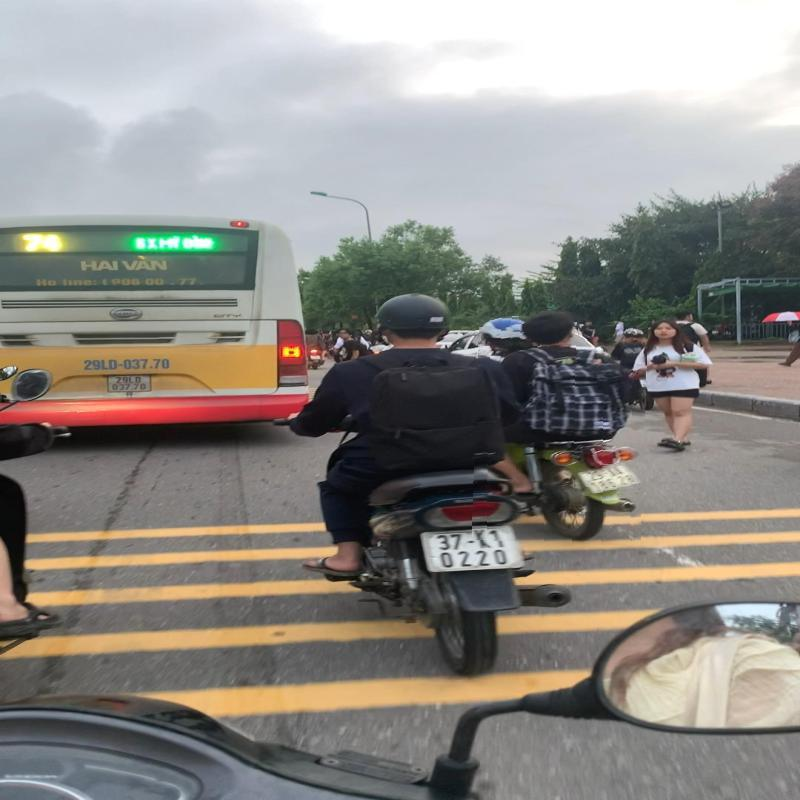helmet: (481, 315, 530, 349)
licenseplate: (574, 463, 645, 495)
motorcyclist: (473, 306, 646, 544)
nohelmet: (520, 308, 578, 346)
